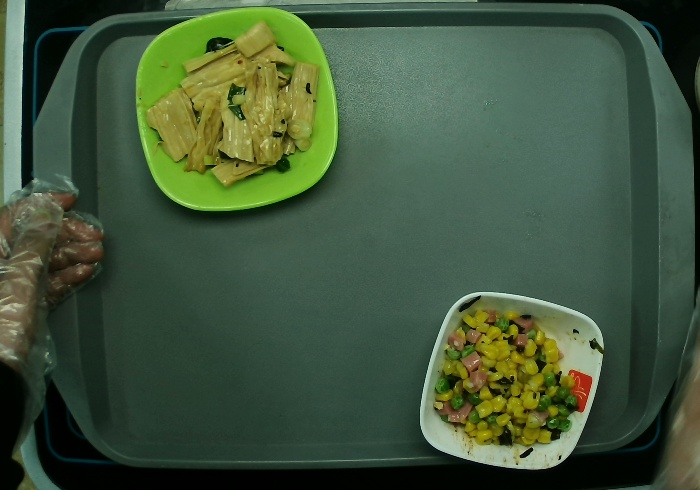SHKJ-Bai_Se_Xiao_Fang_Die: (418, 292, 605, 470)
SHKJ-Lv_Se_Cai_Die: (134, 6, 338, 210)
